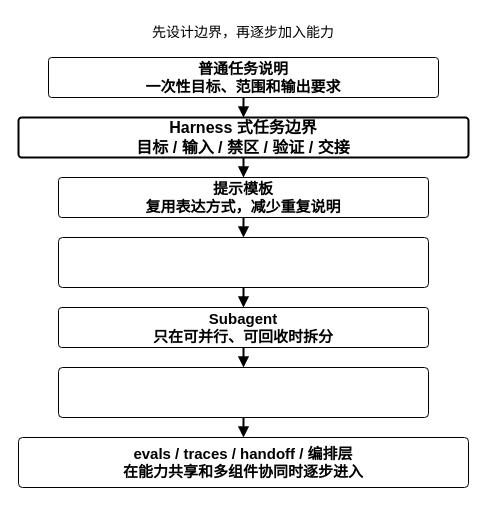
The diagram is 486 pixels wide and 505 high, and some of its shapes have lost their labels. The centre of each missing label's shape, as x and y in pixels:
Skill 只在经验稳定、边界清楚时沉淀: point 243,262
只读型 MCP 只在外部上下文高频搬运时接入: point 243,392
